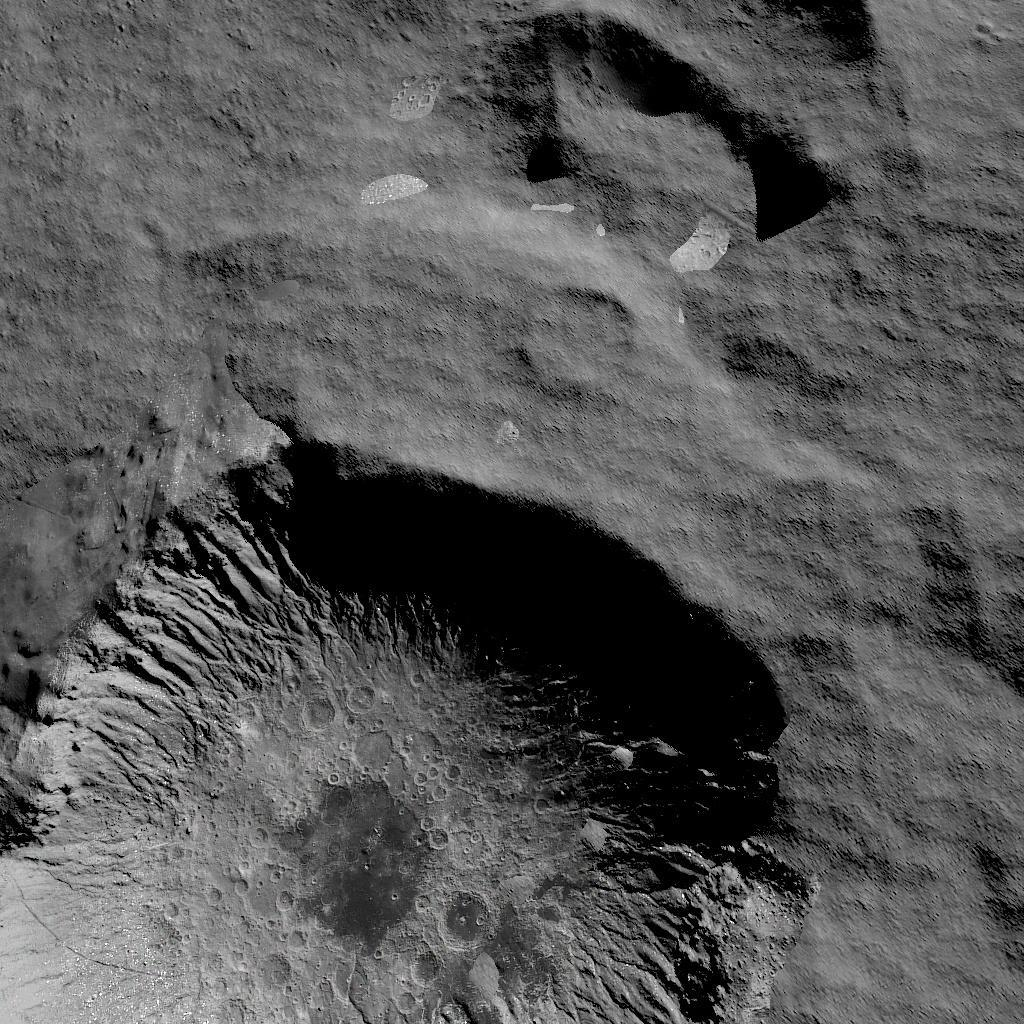Crater: (0, 436, 805, 1024), (515, 284, 634, 404)
Plan surface: (0, 0, 469, 420)
